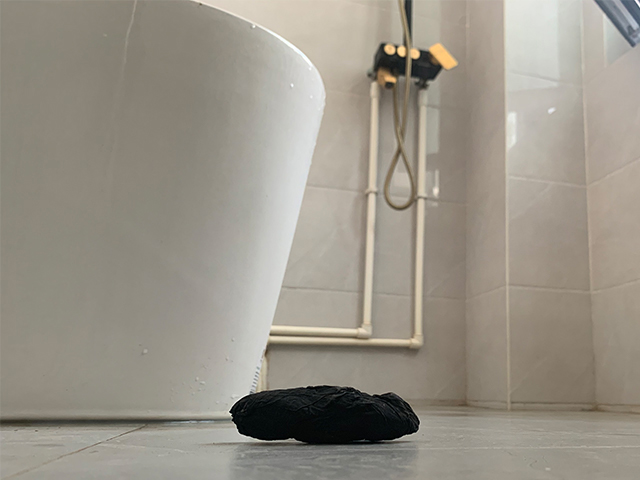closestool: (1, 1, 328, 424)
feces: (228, 385, 421, 447)
